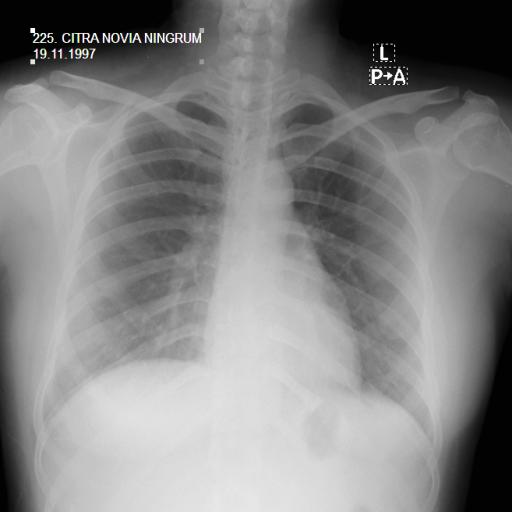normal: (29, 60, 447, 471)
